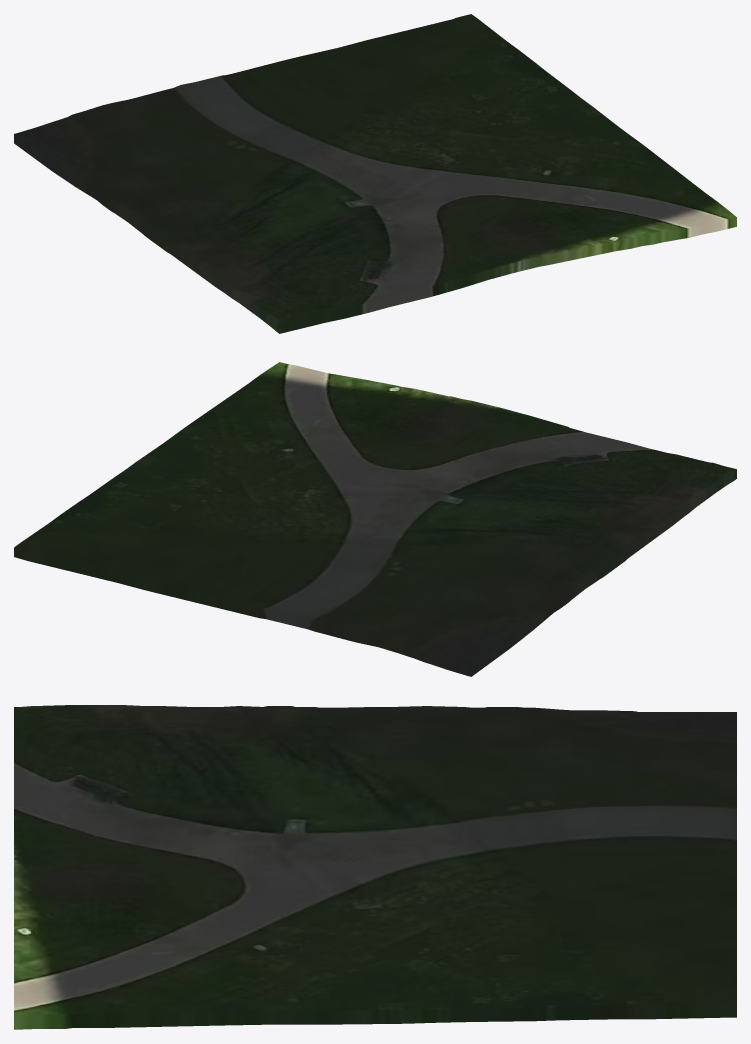
File: z20-167783-405219-h0-yup-uvflip-v3-world.glb
3 views of the same model, one above another, from view 1: azimuth 30°, elevation 25°; view 2: azimuth 150°, elevation 25°; view 3: azimuth 270°, elevation 25° (orthographic). The views are drawn at different scales.
Size of the model in its own units: 30.16 by 1.16 by 30.32.
Materials: 1 (1 with a texture image).
